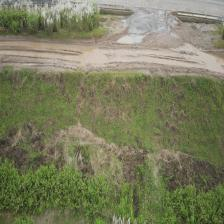vegetation: (0, 160, 113, 221)
